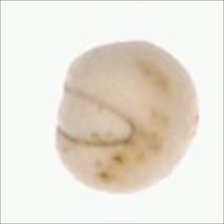L5: (54, 39, 201, 195), (55, 84, 136, 151), (173, 108, 203, 170)
